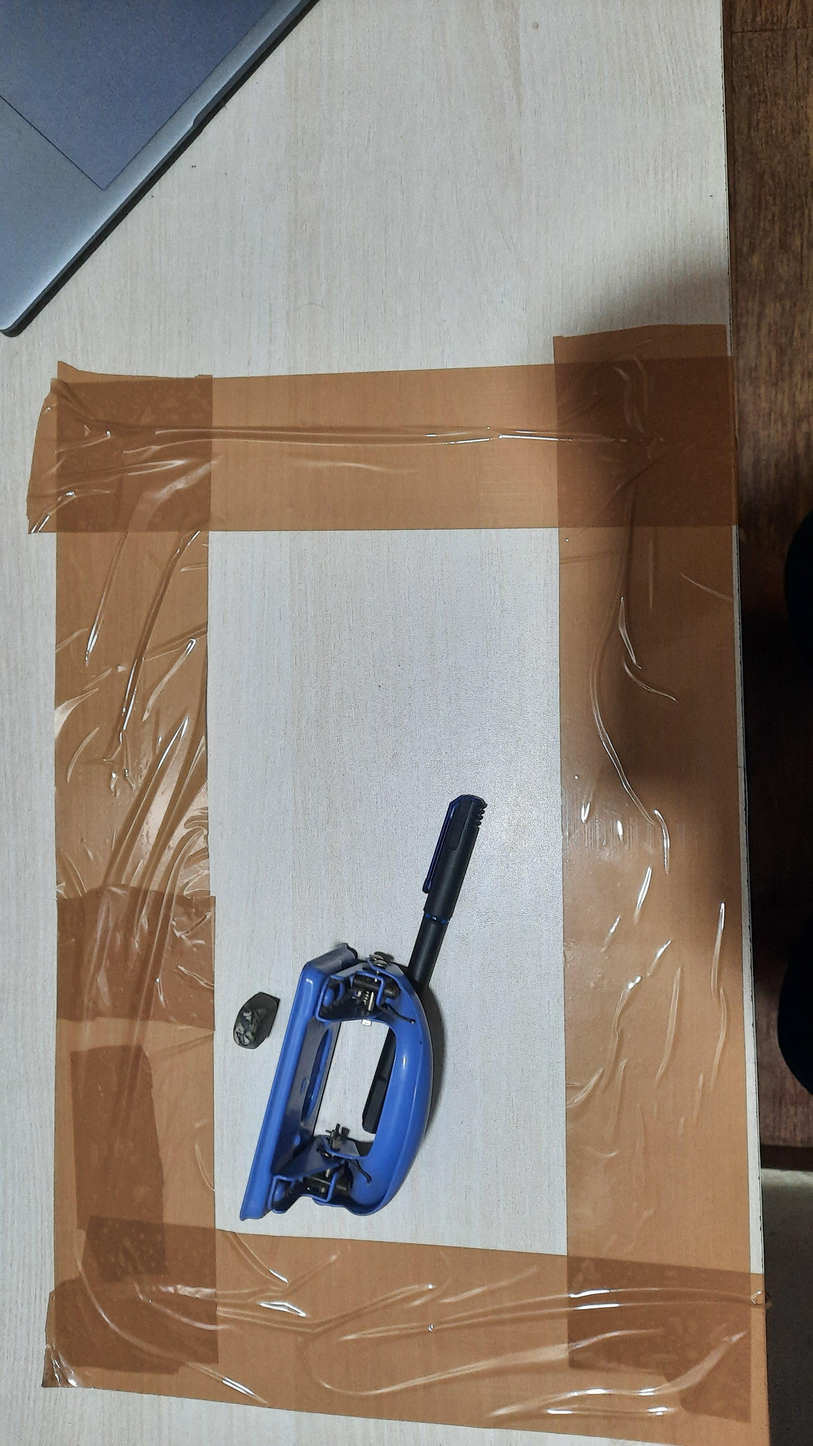Eraser: (233, 991, 281, 1051)
Pen: (403, 793, 488, 1001)
Punch: (238, 943, 440, 1222)
